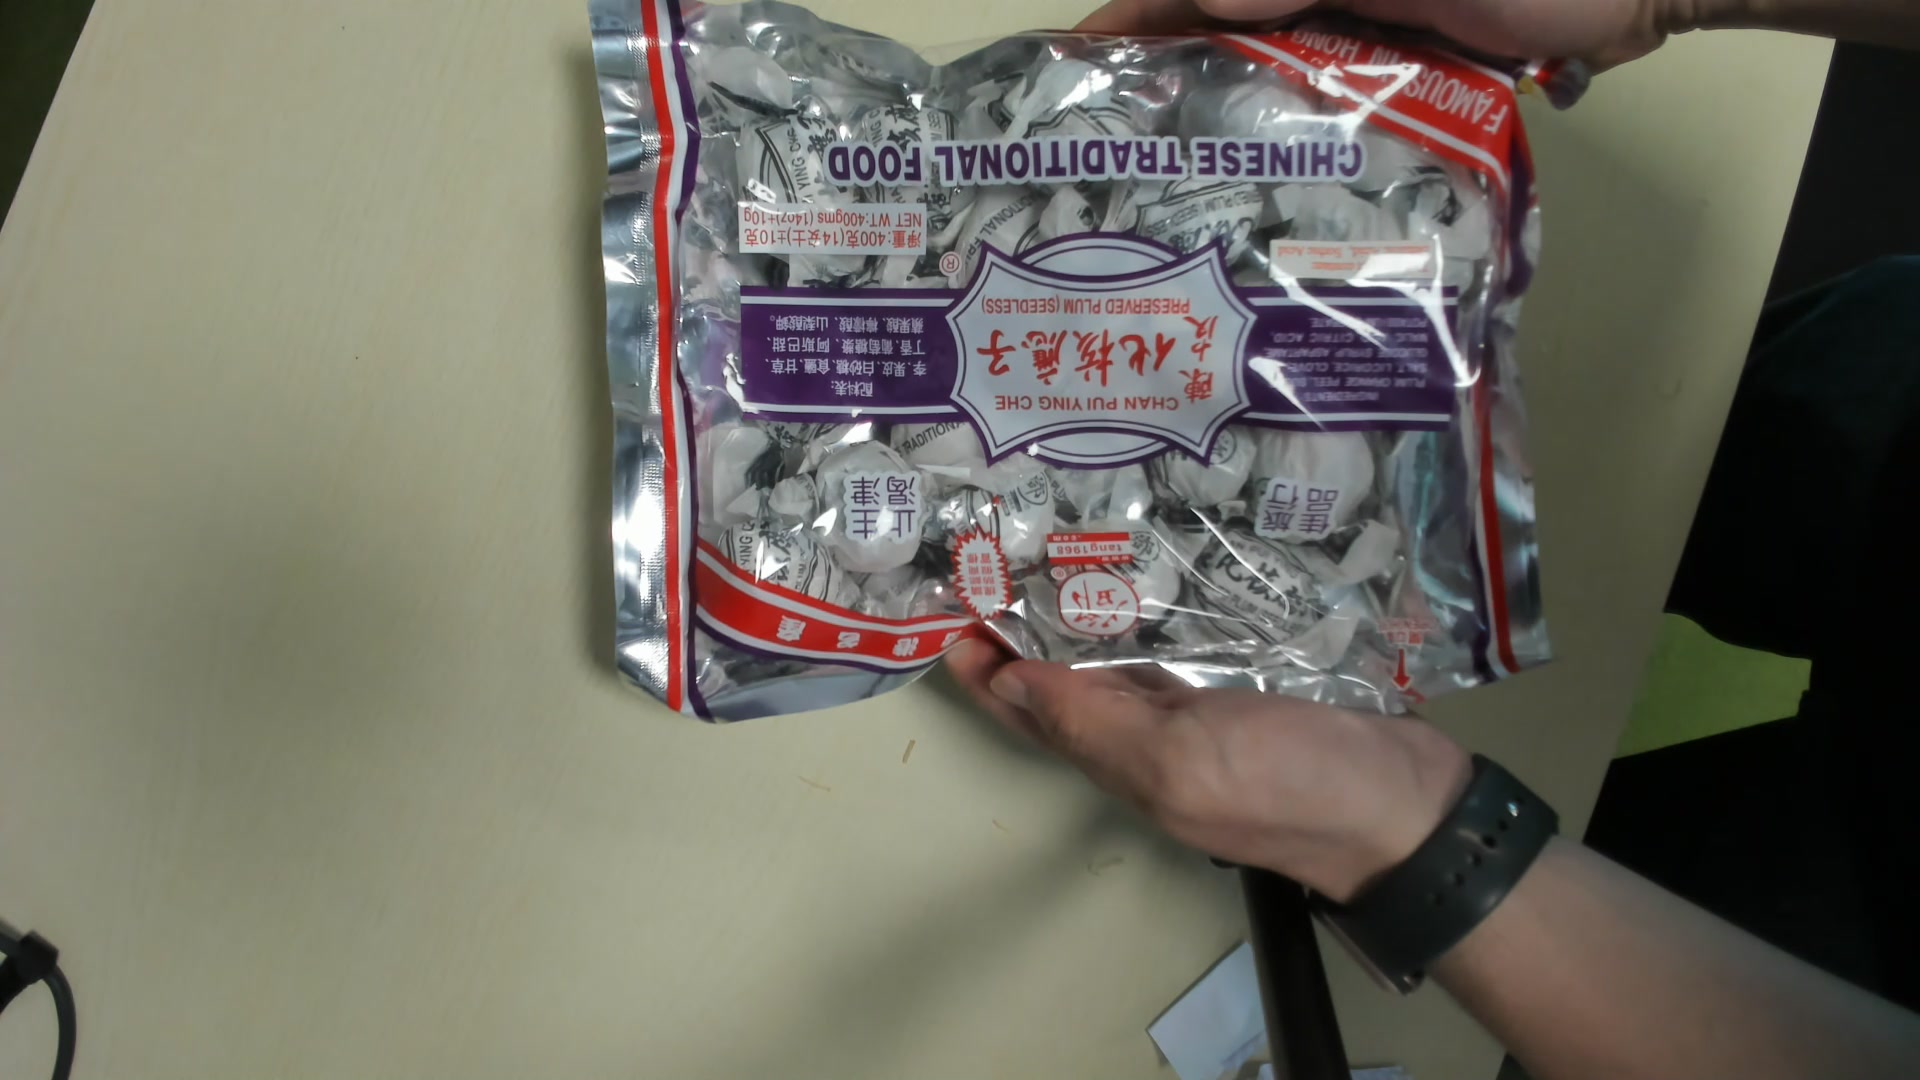SweetsChocolatesOthers_400-499g_NonHalal_Nonhealthy: (587, 5, 1549, 736)
